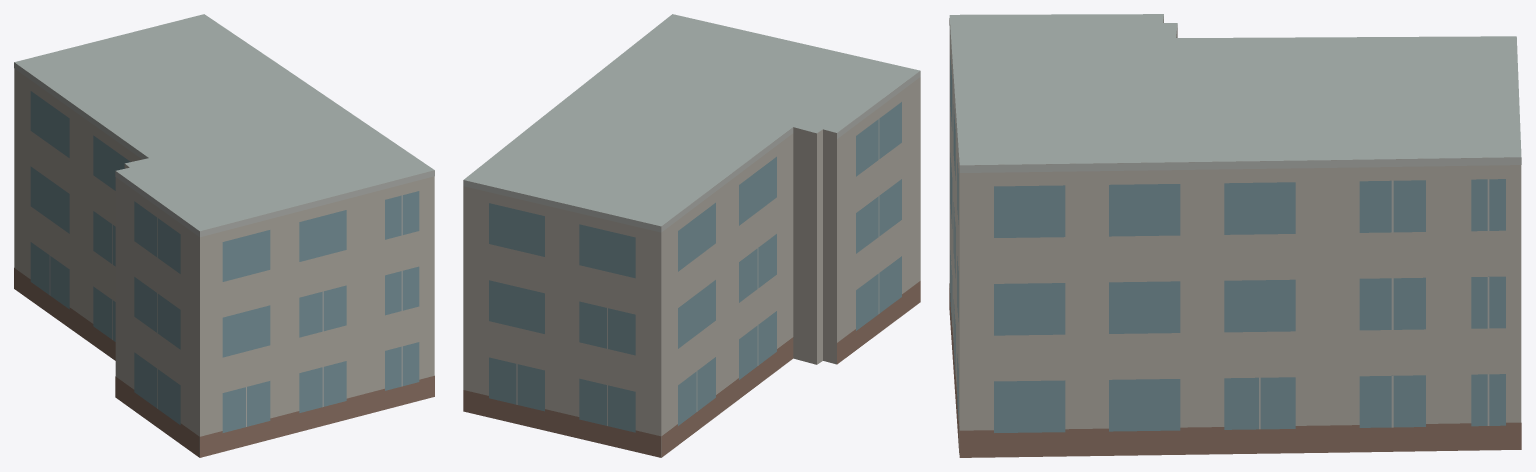
File: survey-upis-32949063.glb
The picture shows the model from 3 angles, left to right: view 1: azimuth 30°, elevation 25°; view 2: azimuth 150°, elevation 25°; view 3: azimuth 270°, elevation 25°; orthographic projection. The views are drawn at different scales.
Visible parts, largest first — view 1: survey-upis-32949063.tmp; view 2: survey-upis-32949063.tmp; view 3: survey-upis-32949063.tmp.
Part boxes in pixels (left/top/right/bottom): survey-upis-32949063.tmp: left=14, top=14, right=434, bottom=457; survey-upis-32949063.tmp: left=463, top=14, right=920, bottom=457; survey-upis-32949063.tmp: left=949, top=14, right=1521, bottom=457.
Bounding box in the file's own units: 10.16 × 9.15 × 16.23.
